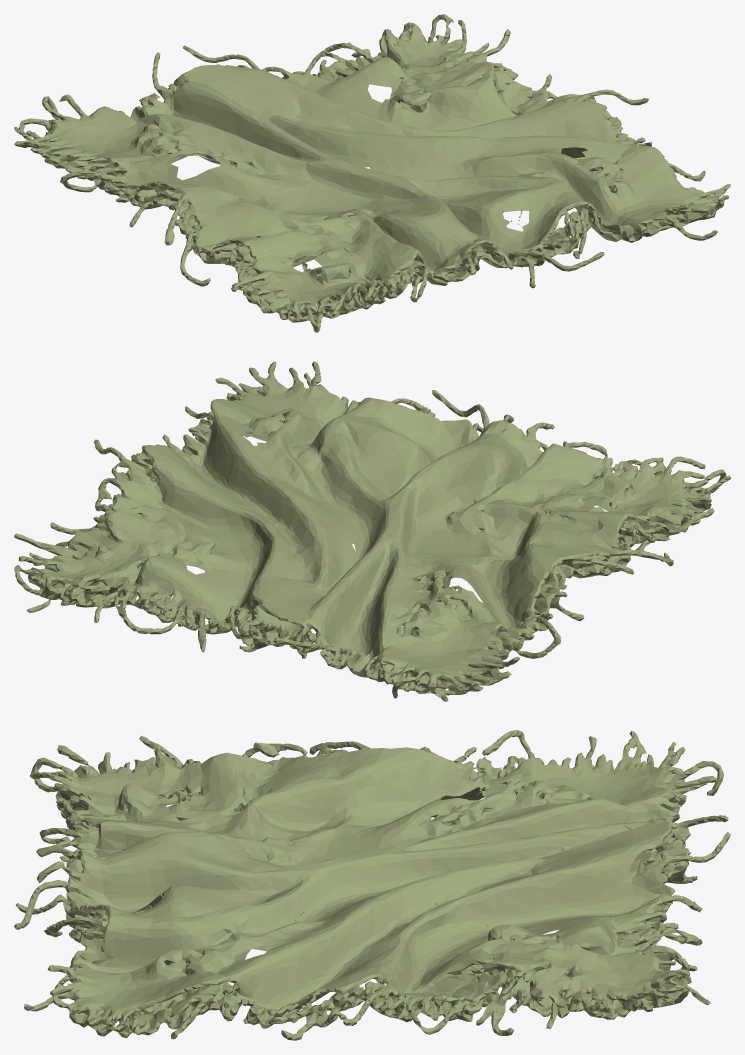
File: tela_pintado.fbx
3 views of the same model, one above another, from view 1: azimuth 30°, elevation 25°; view 2: azimuth 150°, elevation 25°; view 3: azimuth 270°, elevation 25° (orthographic). The views are drawn at different scales.
Parts seen in each view (by area): view 1: tmpjjy_mmpo.ply; view 2: tmpjjy_mmpo.ply; view 3: tmpjjy_mmpo.ply.
Part boxes in pixels (box(x1,y1,x2,y2)): tmpjjy_mmpo.ply: box(14, 14, 730, 332); tmpjjy_mmpo.ply: box(14, 361, 730, 701); tmpjjy_mmpo.ply: box(14, 730, 730, 1040).
Bounding box in the file's own units: 198 × 16.04 × 200.
